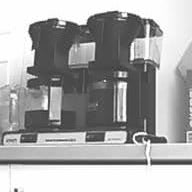not empty coffee: (82, 69, 141, 132), (20, 74, 79, 132)
